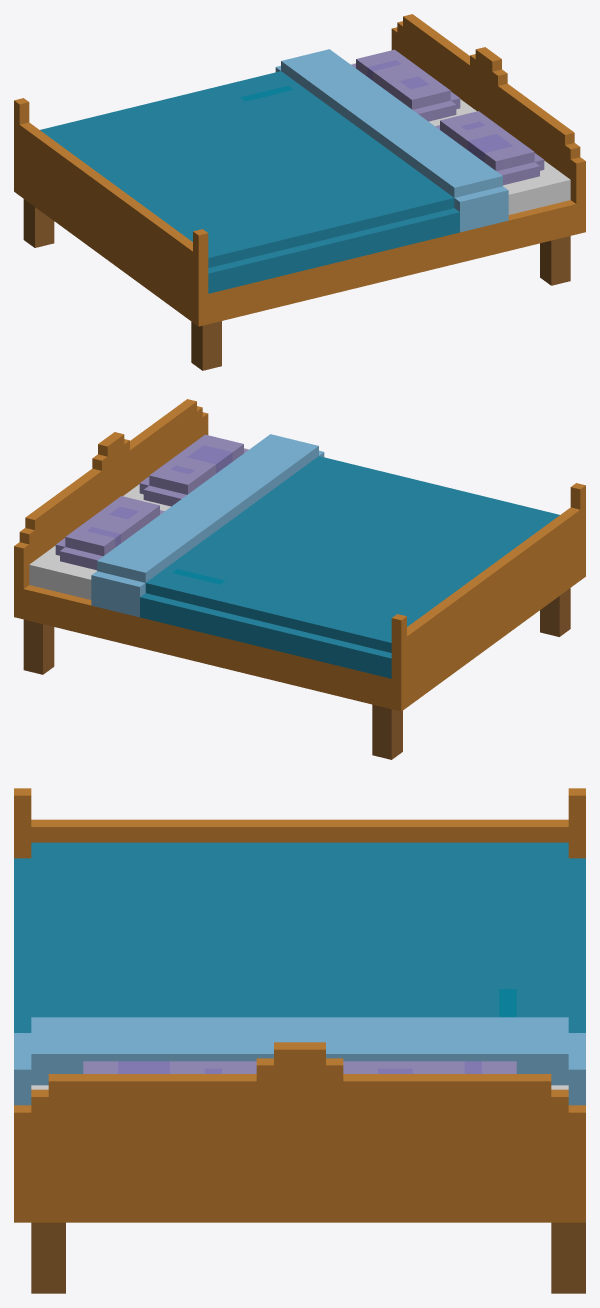
Rendered from obj_bed_2x2.obj.
The picture shows the model from 3 angles, top to bottom: view 1: azimuth 30°, elevation 25°; view 2: azimuth 150°, elevation 25°; view 3: azimuth 270°, elevation 25°; orthographic projection. The views are drawn at different scales.
Visible parts, largest first — view 1: obj_bed_2x2; view 2: obj_bed_2x2; view 3: obj_bed_2x2.
Part boxes in pixels (x1,y1,x2,y2): obj_bed_2x2: (14,14,585,370); obj_bed_2x2: (14,399,585,759); obj_bed_2x2: (14,788,585,1293).
Size of the model in its own units: 40 by 16 by 33.
1 material, 1 textured.
